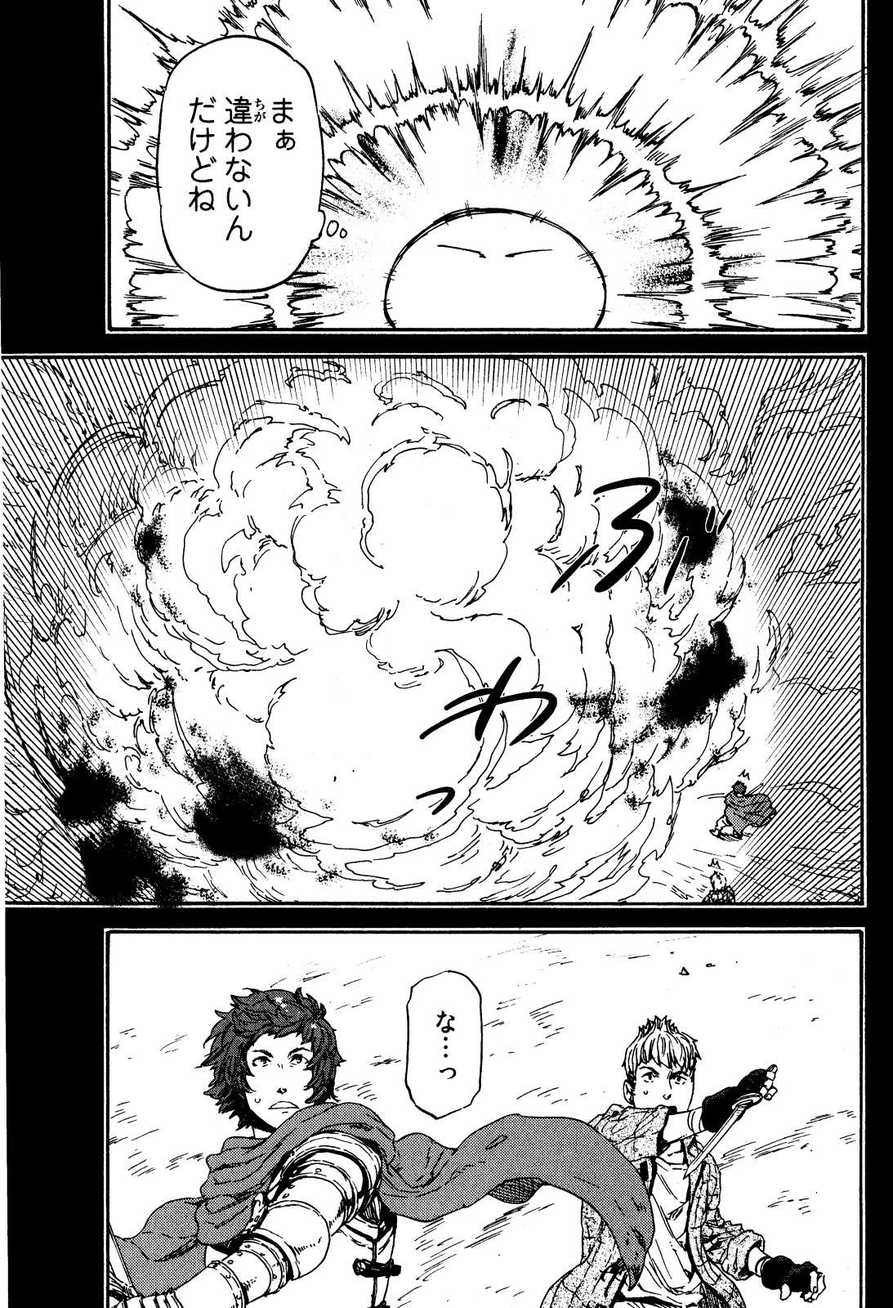bubbles: (153, 33, 332, 293), (401, 965, 489, 1123)
